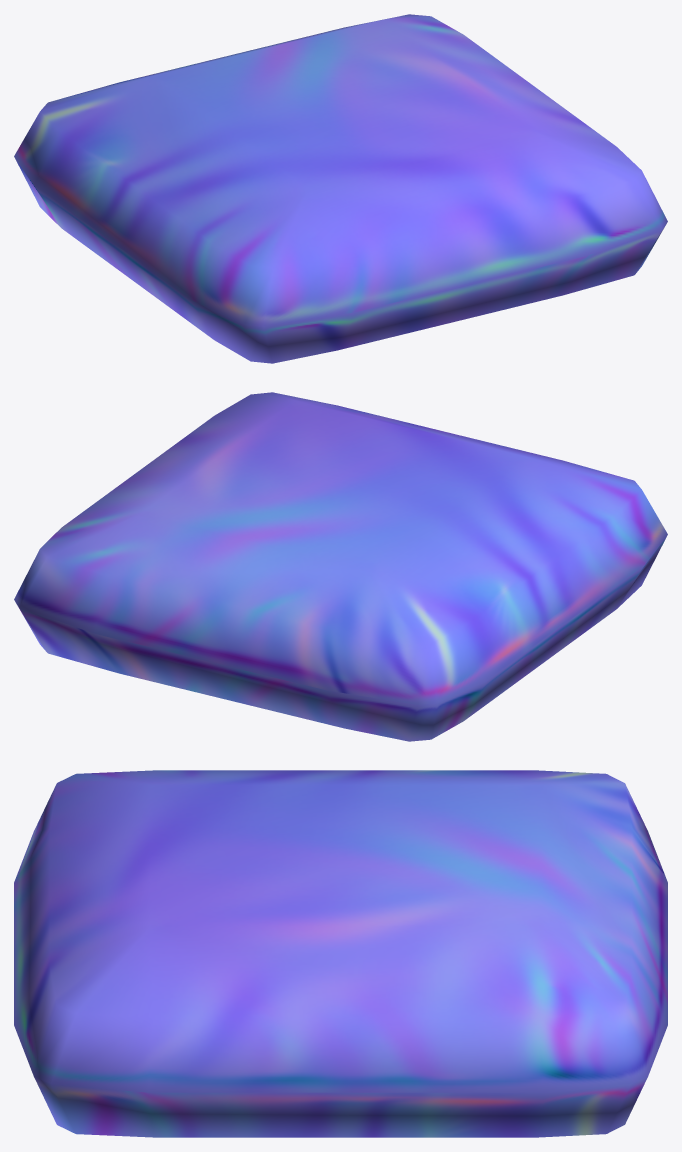
The model's file is pillow.fbx.
The picture shows the model from 3 angles, top to bottom: view 1: azimuth 30°, elevation 25°; view 2: azimuth 150°, elevation 25°; view 3: azimuth 270°, elevation 25°; orthographic projection. The views are drawn at different scales.
Parts seen in each view (by area): view 1: polySurface1370; view 2: polySurface1370; view 3: polySurface1370.
Part boxes in pixels (box(x1,y1,x2,y2)): polySurface1370: box(14, 14, 667, 363); polySurface1370: box(14, 392, 667, 741); polySurface1370: box(14, 770, 667, 1137).
Bounding box in the file's own units: 0.5331 × 0.1831 × 0.5311.
